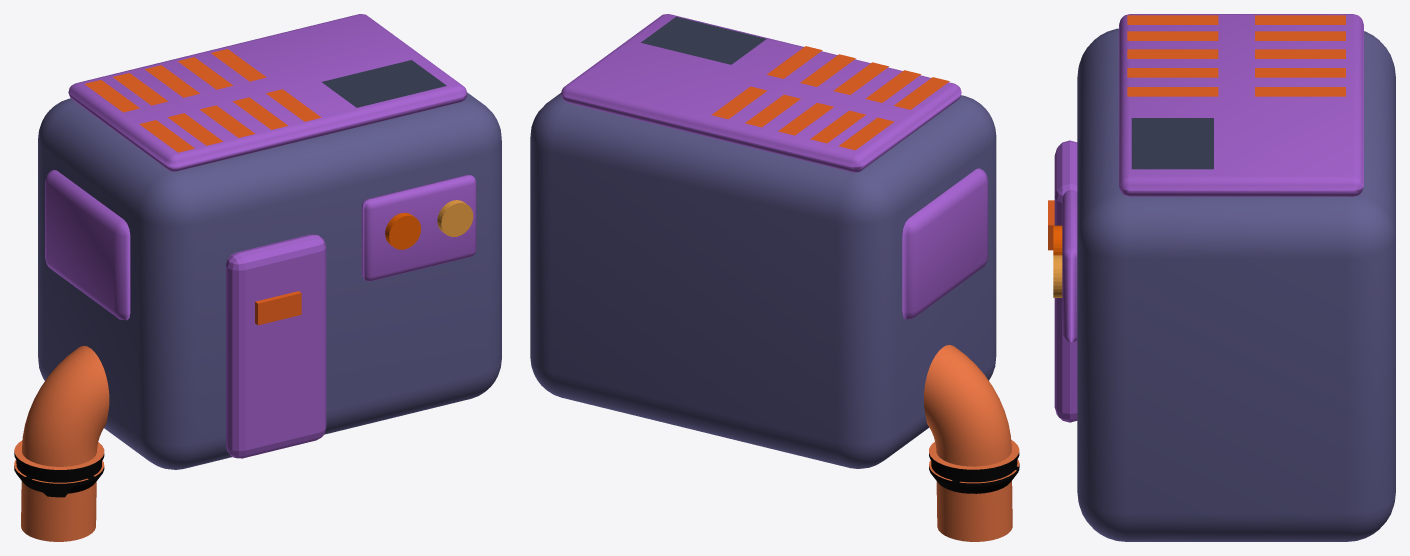
Rendered from machine.fbx.
The picture shows the model from 3 angles, left to right: view 1: azimuth 30°, elevation 25°; view 2: azimuth 150°, elevation 25°; view 3: azimuth 270°, elevation 25°; orthographic projection. The views are drawn at different scales.
Parts seen in each view (by area): view 1: Cube; view 2: Cube; view 3: Cube.
Part boxes in pixels (x1=…): Cube: x1=14, y1=14, x2=501, y2=541; Cube: x1=530, y1=14, x2=1019, y2=541; Cube: x1=1048, y1=14, x2=1395, y2=541.
Size of the model in its own units: 420 by 366 by 254.
